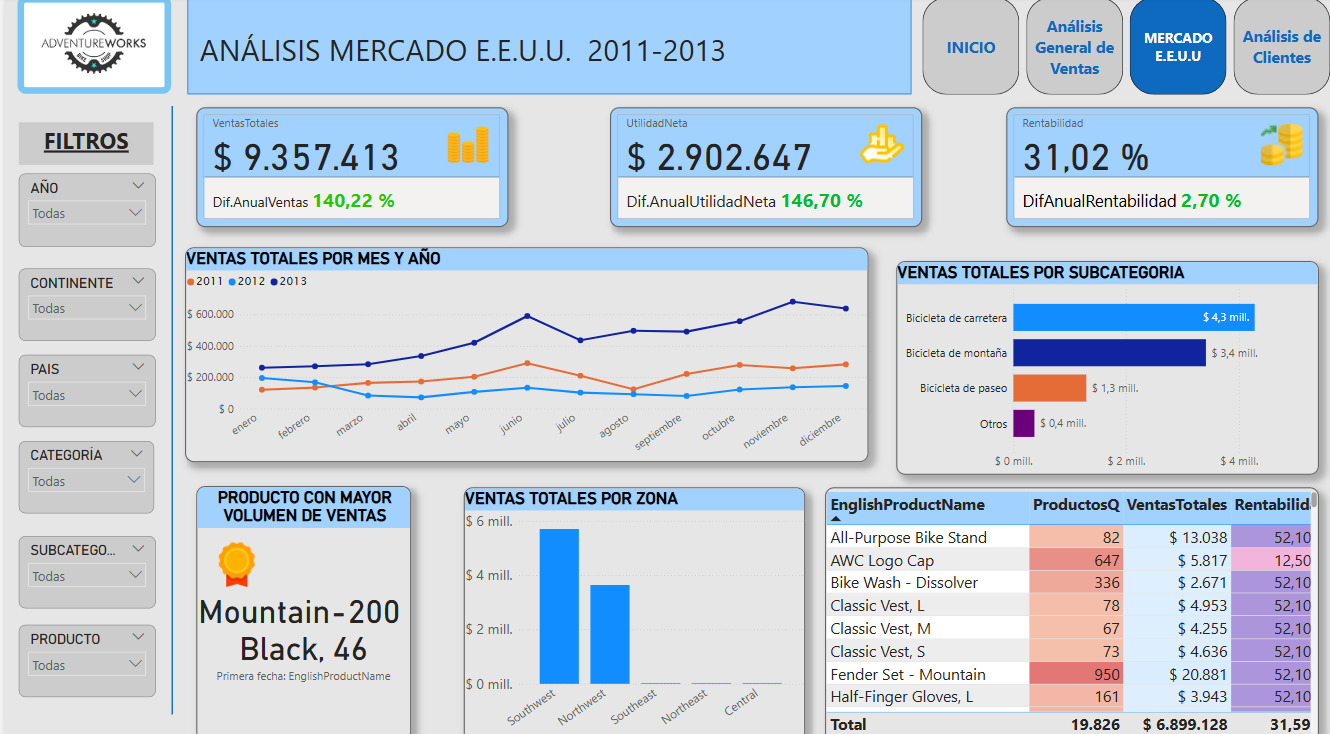

What the dashboard file says about the page in this screenshot:
{"tool":"powerbi","page":{"name":"MERCADO E.E.U.U","canvas":[1920,1080],"ordinal":2},"visuals":[{"type":"lineChart","title":" VENTAS TOTALES POR MES Y AÑO","fields":{"Series":["Calendario.YEAR"],"Y":["Medidas.VentasTotales"],"Category":["Calendario.Date.Variación.Jerarquía de fechas.Mes"]},"box":[260.6,363.7,989.9,311.3],"z":0},{"type":"shape","box":[263.5,0,1048.1,142.3],"z":1000},{"type":"textbox","box":[277.4,43.4,1013.2,71.7],"z":2000},{"type":"shape","box":[232.7,159.6,17.3,880.8],"z":3000},{"type":"slicer","fields":{"Values":["Calendario.YEAR"]},"box":[19.6,256.8,198.1,106.6],"z":4000},{"type":"slicer","fields":{"Values":["DimProduct.CategoryName"]},"box":[19.6,644.2,195.9,104.5],"z":5000},{"type":"slicer","fields":{"Values":["FactInternetSales.PAIS"]},"box":[19.6,520.2,198.1,104.5],"z":6000},{"type":"slicer","fields":{"Values":["DimProduct.SubcategoryName"]},"box":[19.6,781.3,198.1,104.5],"z":7000},{"type":"slicer","fields":{"Values":["DimProduct.EnglishProductName"]},"box":[19.6,909.7,198.1,104.5],"z":8000},{"type":"textbox","box":[19.9,182.8,195.4,61.5],"z":9000},{"type":"pageNavigator","box":[1328.3,1.8,591.8,141.2],"z":10000},{"type":"slicer","fields":{"Values":["FactInternetSales.CONTINENTE"]},"box":[19.6,393.9,198.1,104.5],"z":11000},{"type":"image","box":[18.9,0,222.6,141.5],"z":12000},{"type":"cardVisual","fields":{"Data":["Medidas.VentasTotales"]},"box":[276.2,161.5,451.8,173.2],"z":13000},{"type":"clusteredColumnChart","title":" VENTAS TOTALES POR ZONA","fields":{"Category":["FactInternetSales.ZONA"],"Y":["Medidas.VentasTotales"]},"box":[664.1,711.2,494,369.2],"z":14000},{"type":"tableEx","title":"DIF. % DE VENTAS  POR AÑO Y POR PAIS","fields":{"Values":["DimProduct.EnglishProductName","Medidas.ProductosVendidos","Medidas.VentasTotales","Medidas.Rentabilidad"]},"box":[1187.1,711.2,714.8,369.2],"z":15000},{"type":"cardVisual","fields":{"Data":["Medidas.UtilidadNeta"]},"box":[875.5,161.5,451.8,173.2],"z":16000},{"type":"cardVisual","fields":{"Data":["Medidas.Rentabilidad"]},"box":[1449,161.5,451.8,173.2],"z":17000},{"type":"clusteredBarChart","title":" VENTAS TOTALES POR SUBCATEGORIA","fields":{"Category":["DimProduct.SubcategoryNameAgrup"],"Y":["Medidas.VentasTotales"]},"box":[1290.3,383.6,611.7,309.5],"z":18000},{"type":"card","title":" PRODUCTO CON MAYOR VOLUMEN DE VENTAS ","fields":{"Values":["Min(DimProduct.EnglishProductName)"]},"box":[276.9,709.4,311.3,369.2],"z":19000},{"type":"image","box":[293.2,781.8,85.1,83.2],"z":20000}]}

Visuals, with their boxes in screenshot pixels (x1, y1, x2, y2), scaled from the page's 1920x1080 canvas onto the 1330x734 screenshot:
" VENTAS TOTALES POR MES Y AÑO" lineChart: 181/247/866/459
shape: 183/0/909/97
textbox: 192/29/894/78
shape: 161/108/173/707
slicer - Calendario.YEAR: 14/175/151/247
slicer - DimProduct.CategoryName: 14/438/149/509
slicer - FactInternetSales.PAIS: 14/354/151/425
slicer - DimProduct.SubcategoryName: 14/531/151/602
slicer - DimProduct.EnglishProductName: 14/618/151/689
textbox: 14/124/149/166
pageNavigator: 920/1/1329/97
slicer - FactInternetSales.CONTINENTE: 14/268/151/339
image: 13/0/167/96
cardVisual - Medidas.VentasTotales: 191/110/504/227
" VENTAS TOTALES POR ZONA" clusteredColumnChart: 460/483/802/733
"DIF. % DE VENTAS  POR AÑO Y POR PAIS" tableEx: 822/483/1317/733
cardVisual - Medidas.UtilidadNeta: 606/110/919/227
cardVisual - Medidas.Rentabilidad: 1004/110/1317/227
" VENTAS TOTALES POR SUBCATEGORIA" clusteredBarChart: 894/261/1318/471
" PRODUCTO CON MAYOR VOLUMEN DE VENTAS " card: 192/482/407/733
image: 203/531/262/588
